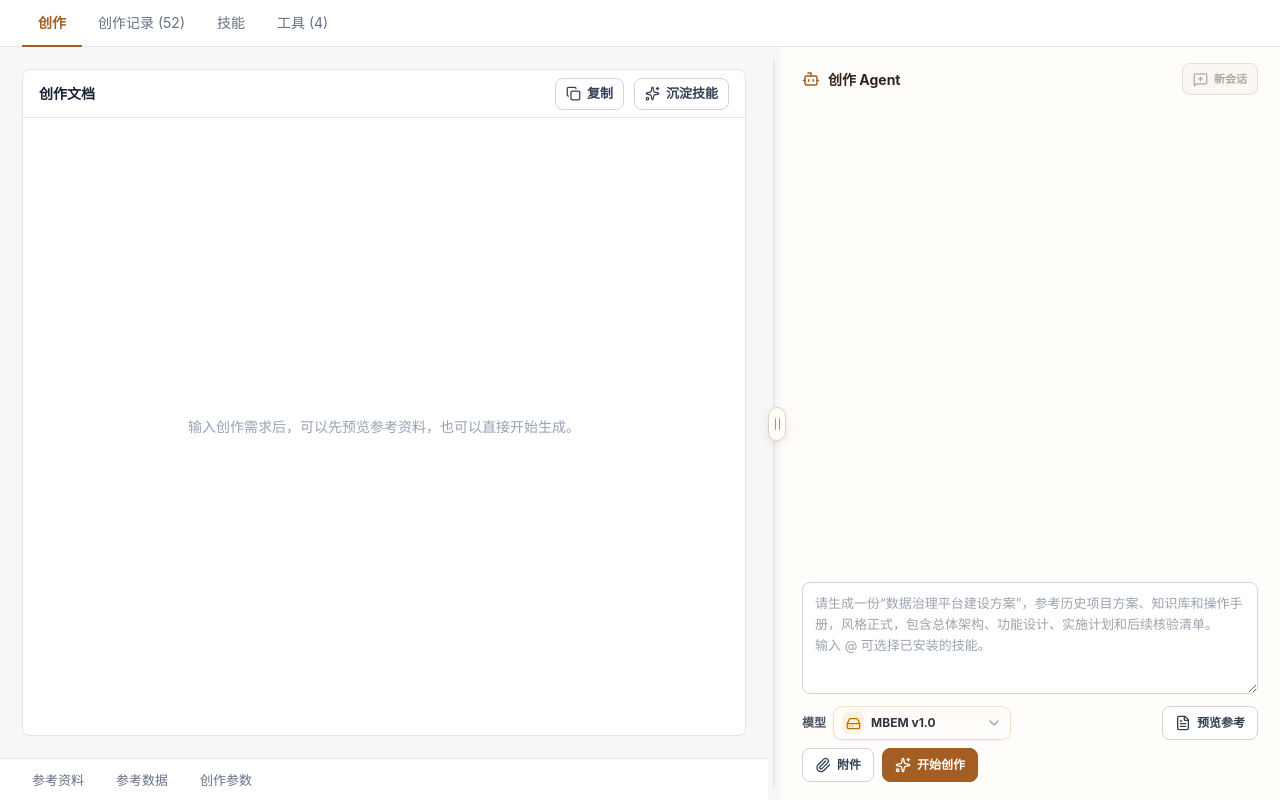
创作记录搜索与分页 › 展示真实总数，并把搜索和分页参数传给服务端
Step 1. Click the button "创作记录 (52)" → point(142, 24), box [82,0,201,47]
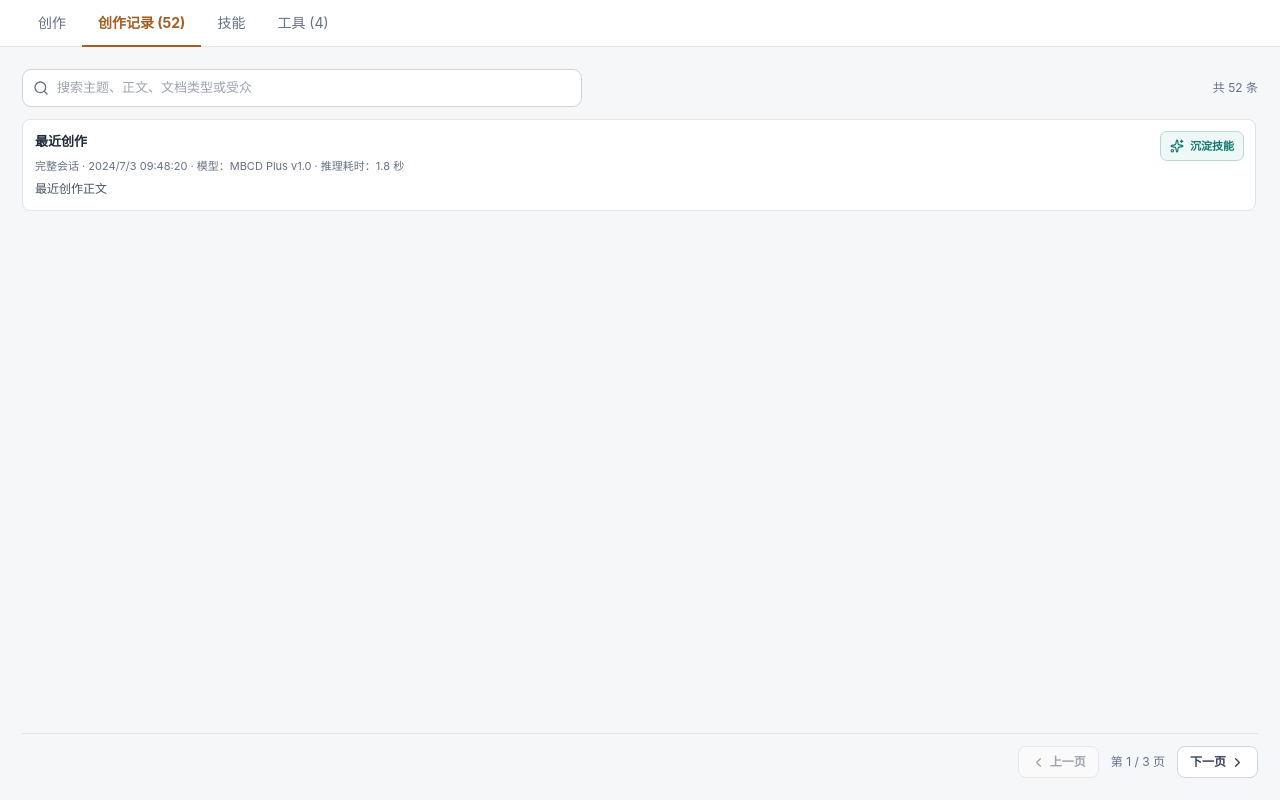
Step 2. Type "年度规划" into the search field named "搜索创作记录" → point(314, 88), box [57,78,571,98]
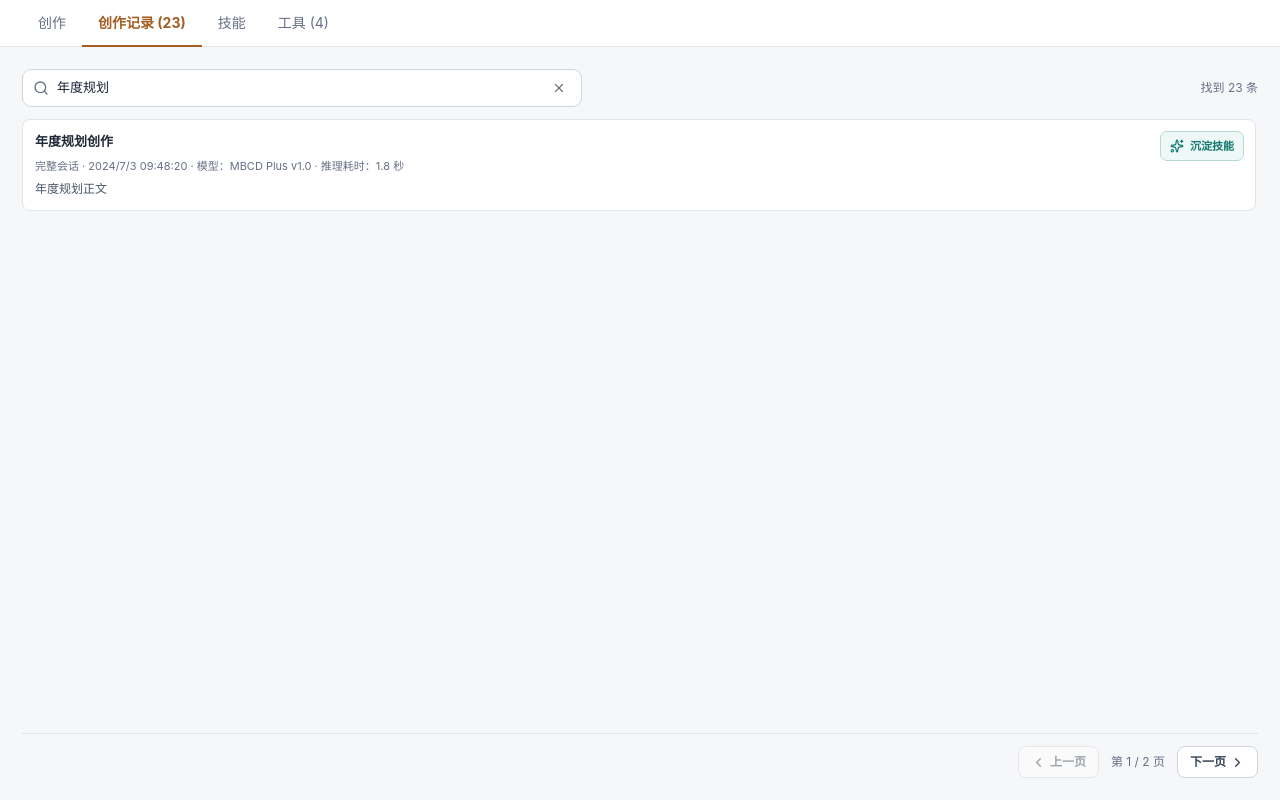
Check: the text "完整会话 · 2024/7/3 09:48:20 · 模型：MBCD Plus v1.0 · 推理耗时：1.8 秒" is shown, box [35,158,404,172]
Check: the text "年度规划创作" is shown, box [35,133,113,149]
Check: the text "找到 23 条" is shown, box [1200,79,1258,97]
Step 3. Click the button "下一页" → point(1218, 762), box [1177,746,1258,778]
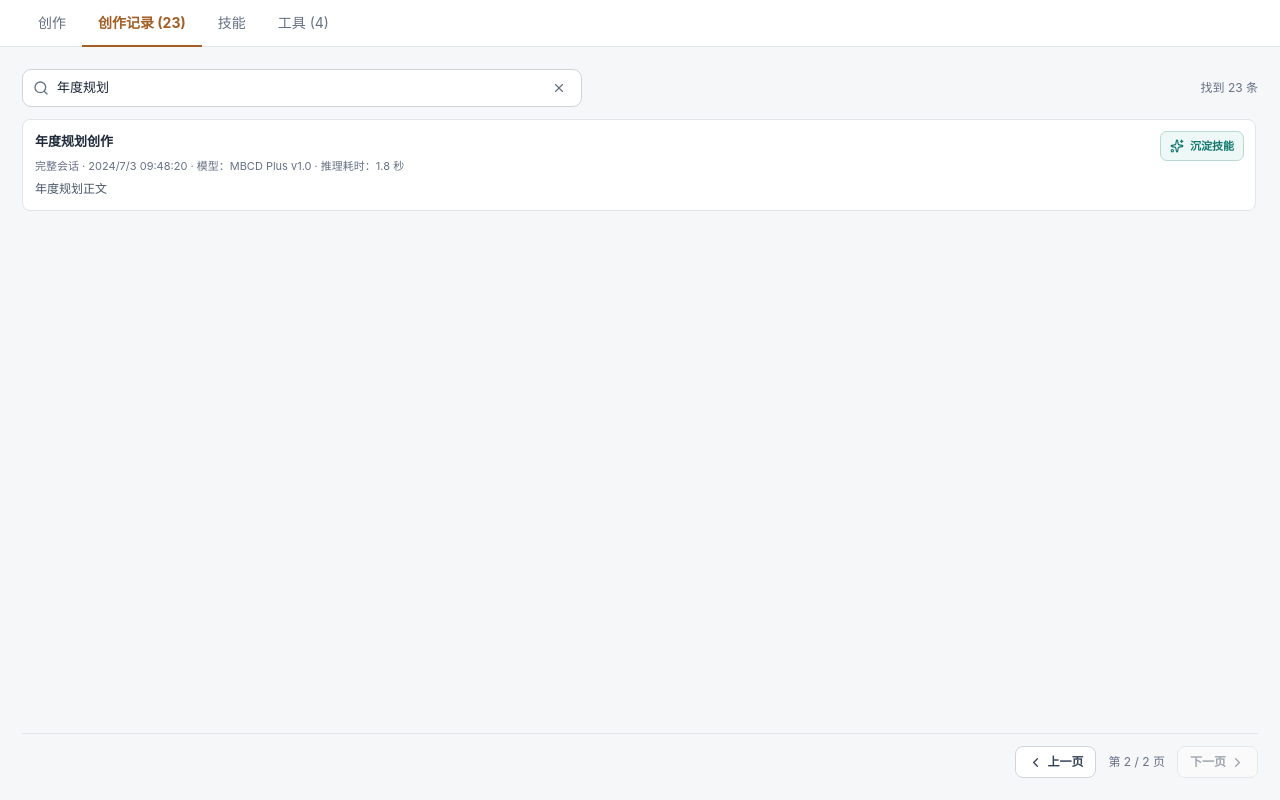
Check: the text "第 2 / 2 页" is shown, box [1108,753,1165,771]
